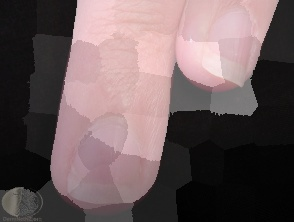Nail_psoriasis: (54, 98, 169, 222), (186, 0, 273, 96)
